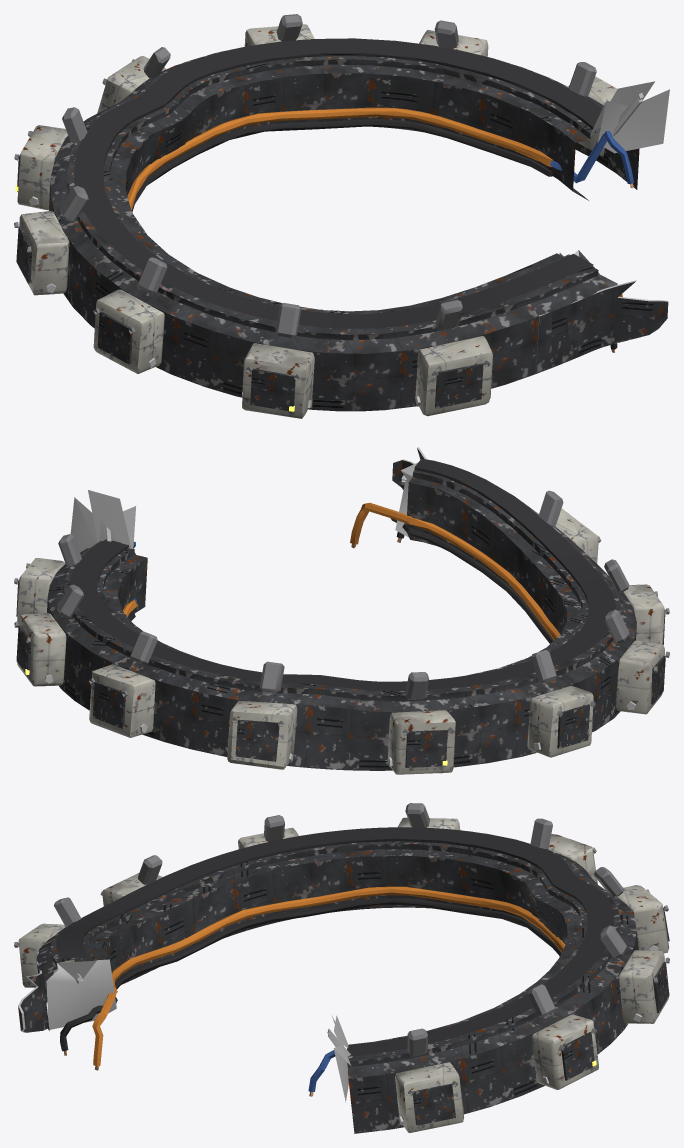
File: capsule_collar_ring_lod1.glb
The picture shows the model from 3 angles, top to bottom: view 1: azimuth 30°, elevation 25°; view 2: azimuth 150°, elevation 25°; view 3: azimuth 270°, elevation 25°; orthographic projection. The views are drawn at different scales.
Visible parts, largest first — view 1: capsule_collar_ring; view 2: capsule_collar_ring; view 3: capsule_collar_ring.
Boxes of the visible parts, x1,y1,x2,y2 form: capsule_collar_ring: [14, 14, 669, 418]; capsule_collar_ring: [14, 447, 669, 774]; capsule_collar_ring: [14, 803, 669, 1133].
Size of the model in its own units: 1.69 by 0.3833 by 1.72.
10 materials, 2 textured.
